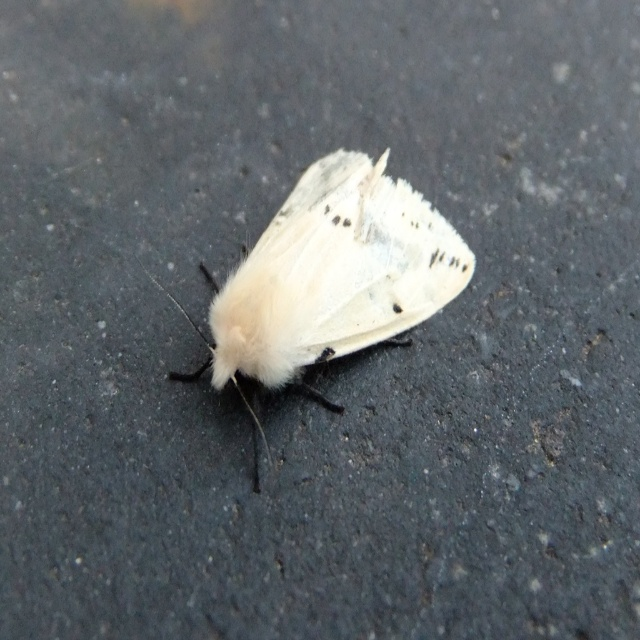Moths and butterflies: (132, 146, 480, 499)
